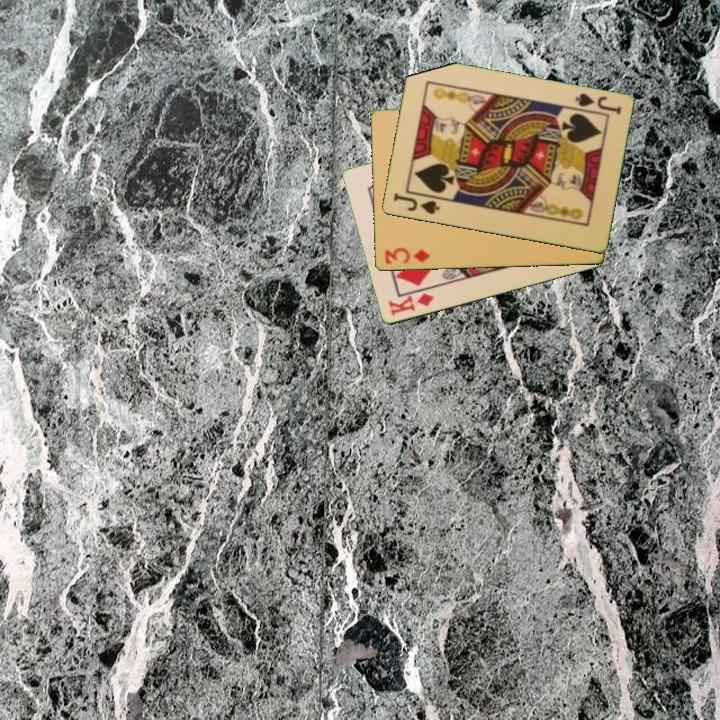3d: (381, 244, 433, 267)
Js: (571, 90, 624, 118), (390, 190, 442, 217)
Kd: (384, 290, 437, 319)
